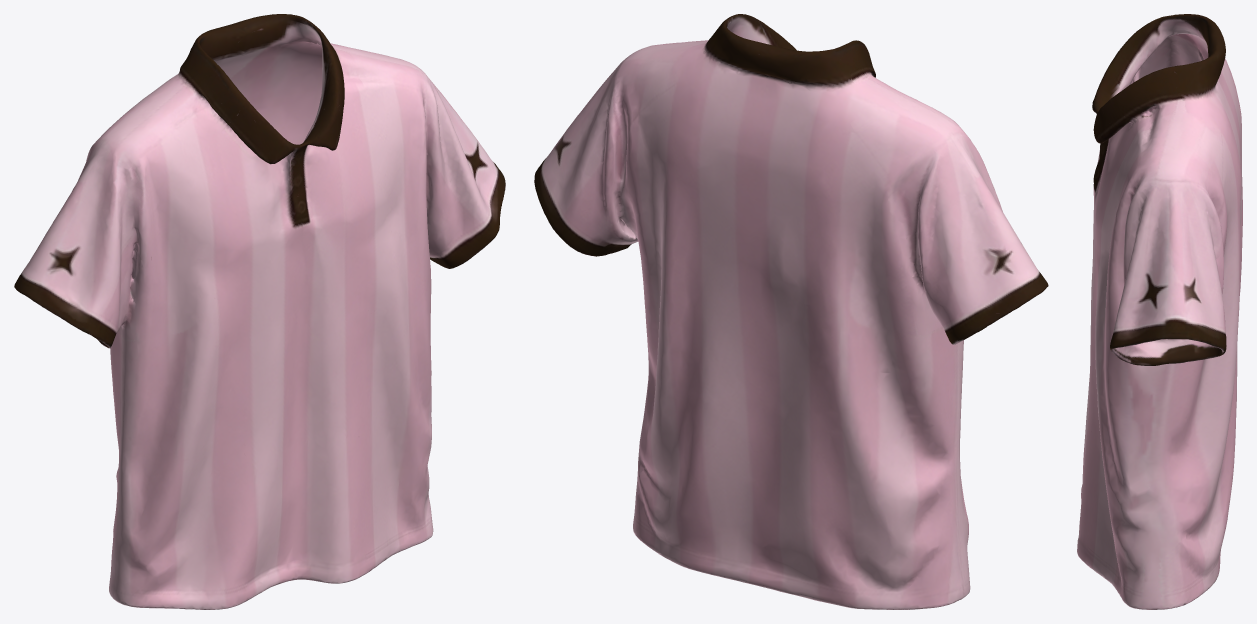
File: shirt.glb
The picture shows the model from 3 angles, left to right: view 1: azimuth 30°, elevation 25°; view 2: azimuth 150°, elevation 25°; view 3: azimuth 270°, elevation 25°; orthographic projection. The views are drawn at different scales.
Parts seen in each view (by area): view 1: Mesh_0; view 2: Mesh_0; view 3: Mesh_0.
Part boxes in pixels (x1,y1,x2,y2): Mesh_0: [14, 14, 505, 609]; Mesh_0: [534, 14, 1048, 609]; Mesh_0: [1077, 14, 1242, 609].
Size of the model in its own units: 0.8974 by 0.9288 by 0.2778.
Materials: 1 (1 with a texture image).
